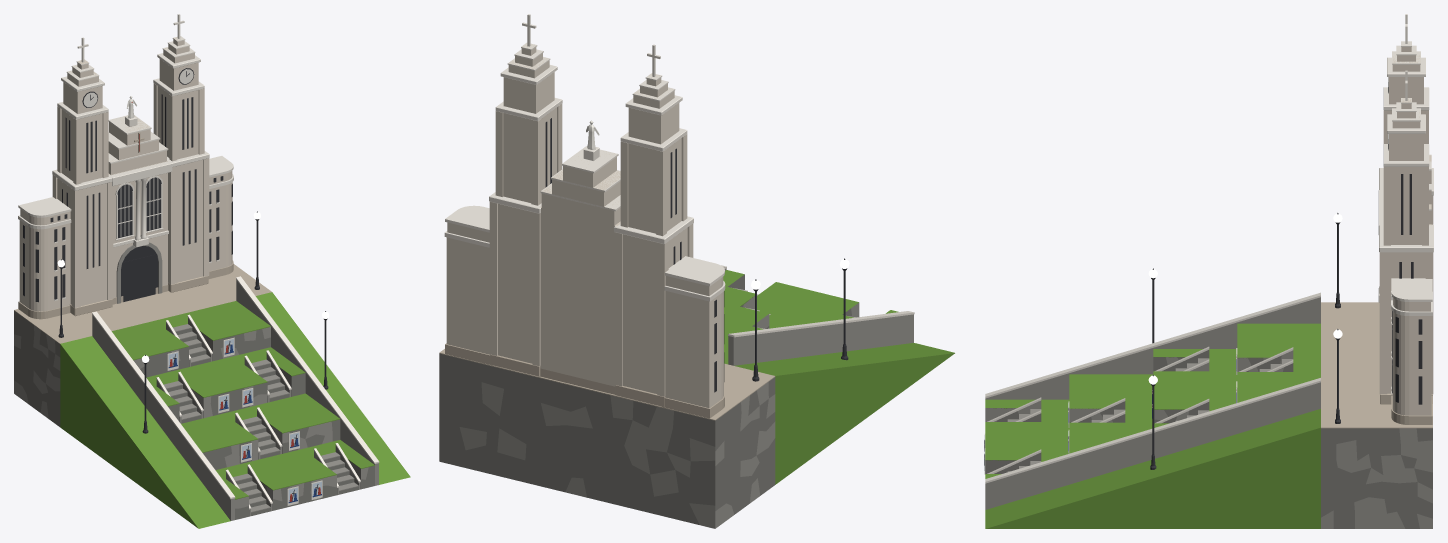
Rendered from igreja_matriz_completa.glb.
3 renders of one model, left to right at view 1: azimuth 30°, elevation 25°; view 2: azimuth 150°, elevation 25°; view 3: azimuth 270°, elevation 25°, orthographic. The views are drawn at different scales.
Parts seen in each view (by area): view 1: igreja_matriz_completa; view 2: igreja_matriz_completa; view 3: igreja_matriz_completa.
Part boxes in pixels (x1,y1,x2,y2): igreja_matriz_completa: (14, 14, 410, 528); igreja_matriz_completa: (439, 14, 954, 528); igreja_matriz_completa: (984, 14, 1433, 528).
Size of the model in its own units: 10.6 by 16.7 by 16.08.
